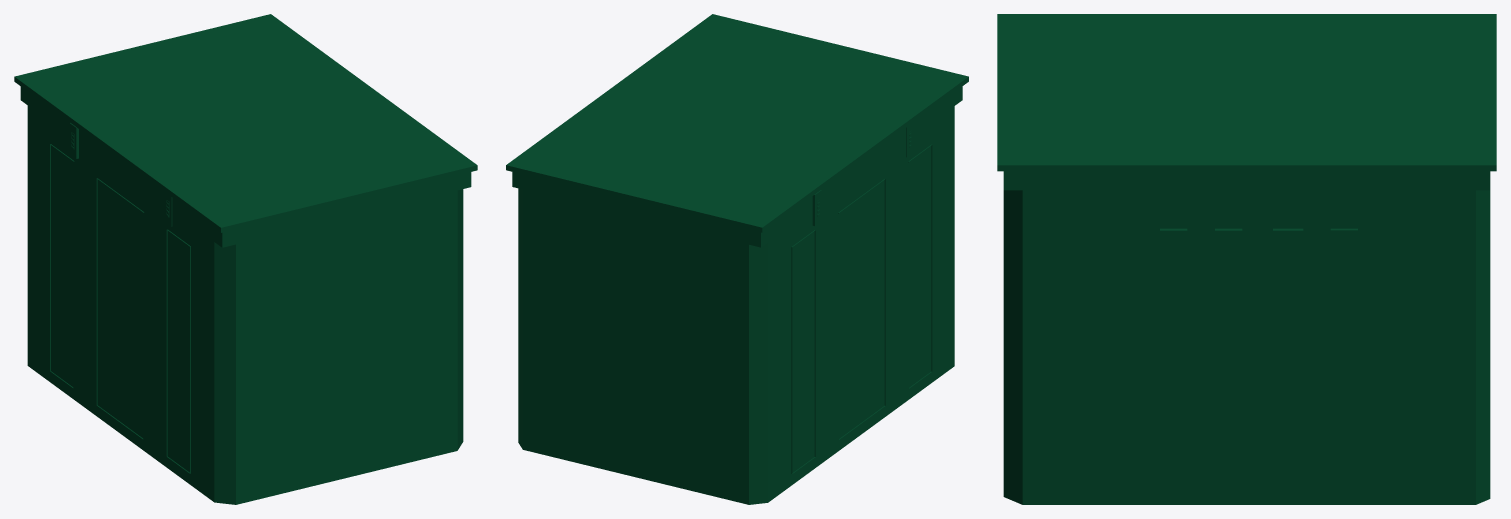
The model's file is tpu4.fbx.
The picture shows the model from 3 angles, left to right: view 1: azimuth 30°, elevation 25°; view 2: azimuth 150°, elevation 25°; view 3: azimuth 270°, elevation 25°; orthographic projection. The views are drawn at different scales.
Visible parts, largest first — view 1: Cube; view 2: Cube; view 3: Cube.
Part boxes in pixels (x1,y1,x2,y2): Cube: (14,14,477,504); Cube: (506,14,968,504); Cube: (997,14,1496,504).
Size of the model in its own units: 206 by 217 by 288.
